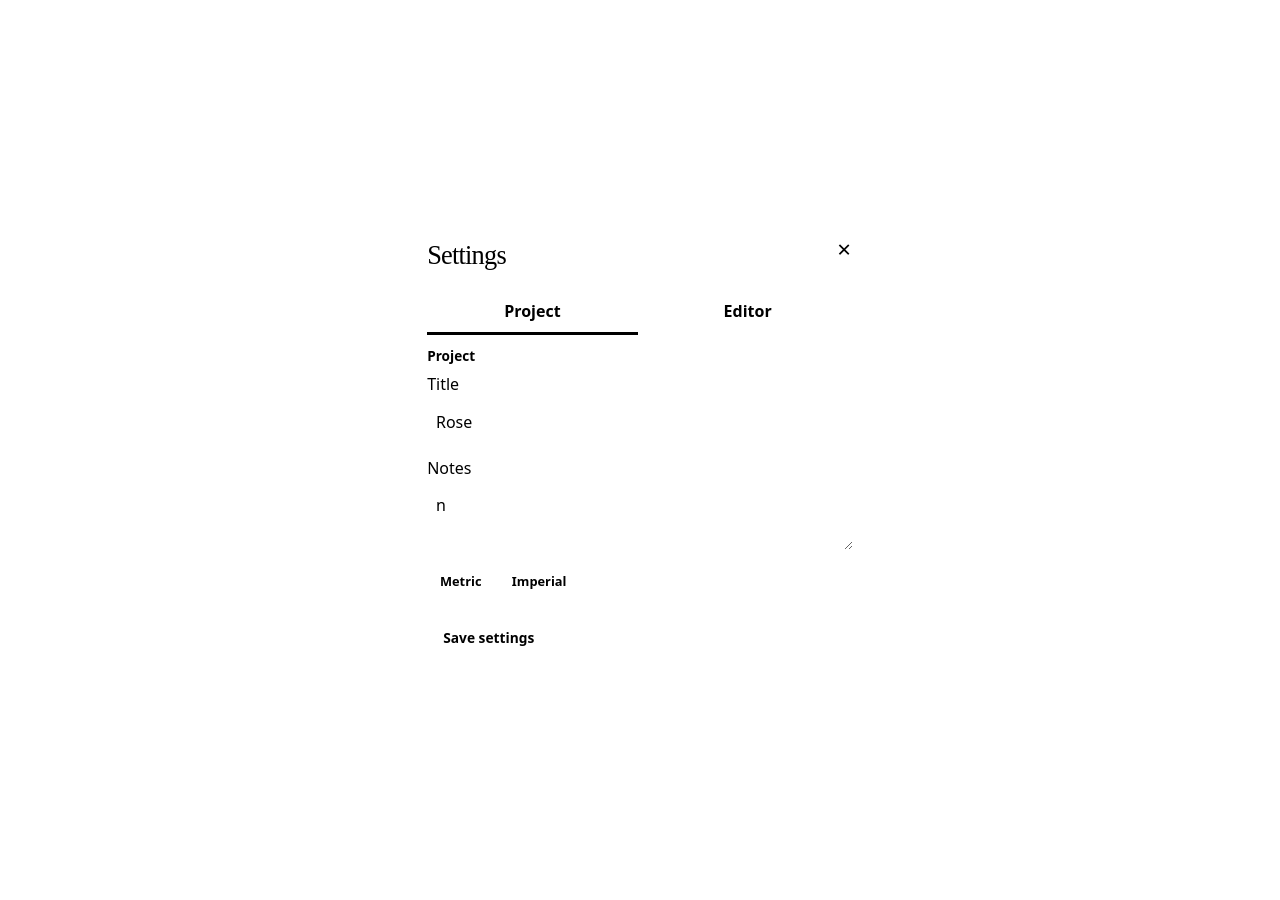
Scenario: PatternSettingsDialog › offers the theme in placement mode
Click the tab "Editor" at x=748, y=312, box [642, 290, 853, 335]
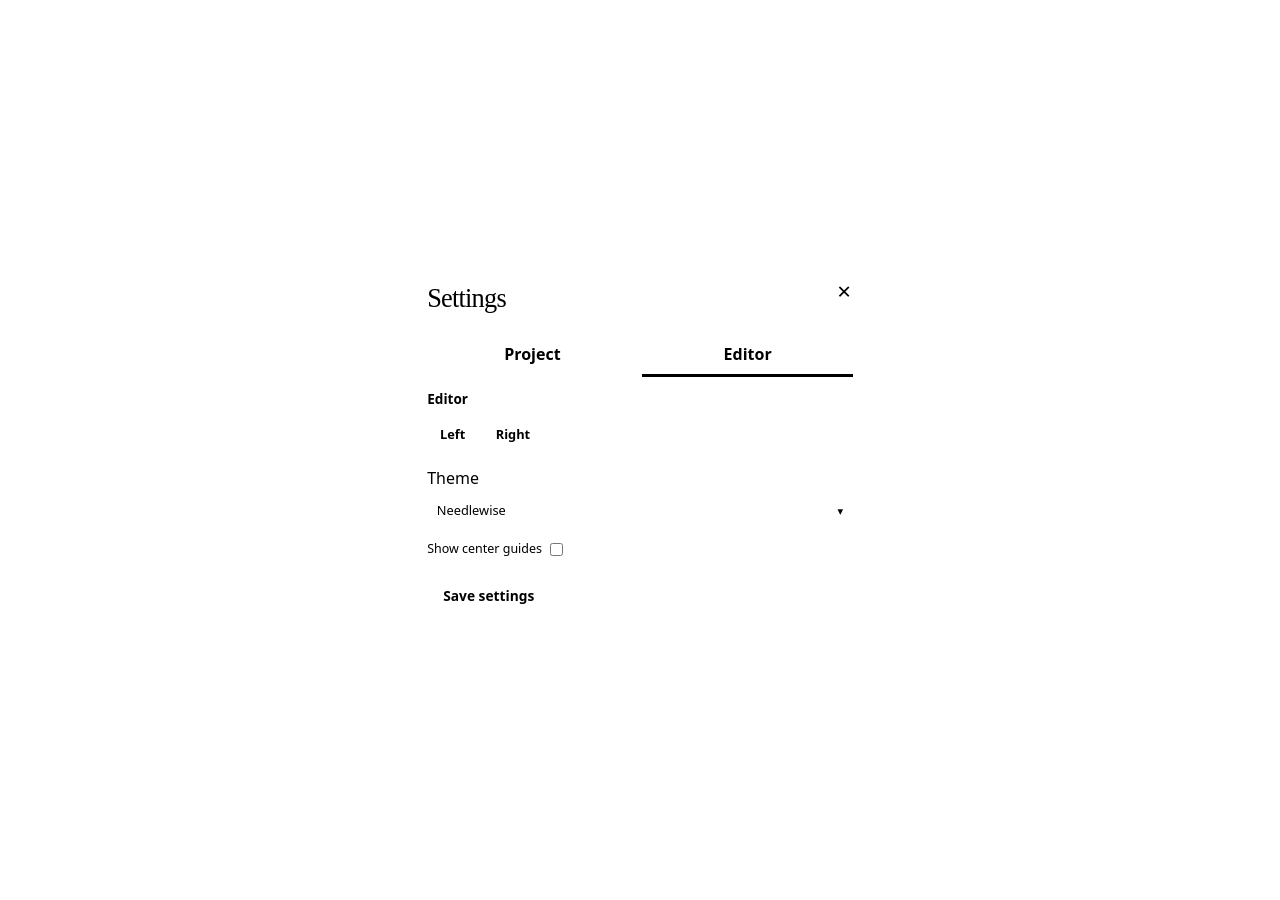
Now the button named "Theme" is shown, box [427, 495, 853, 527]
